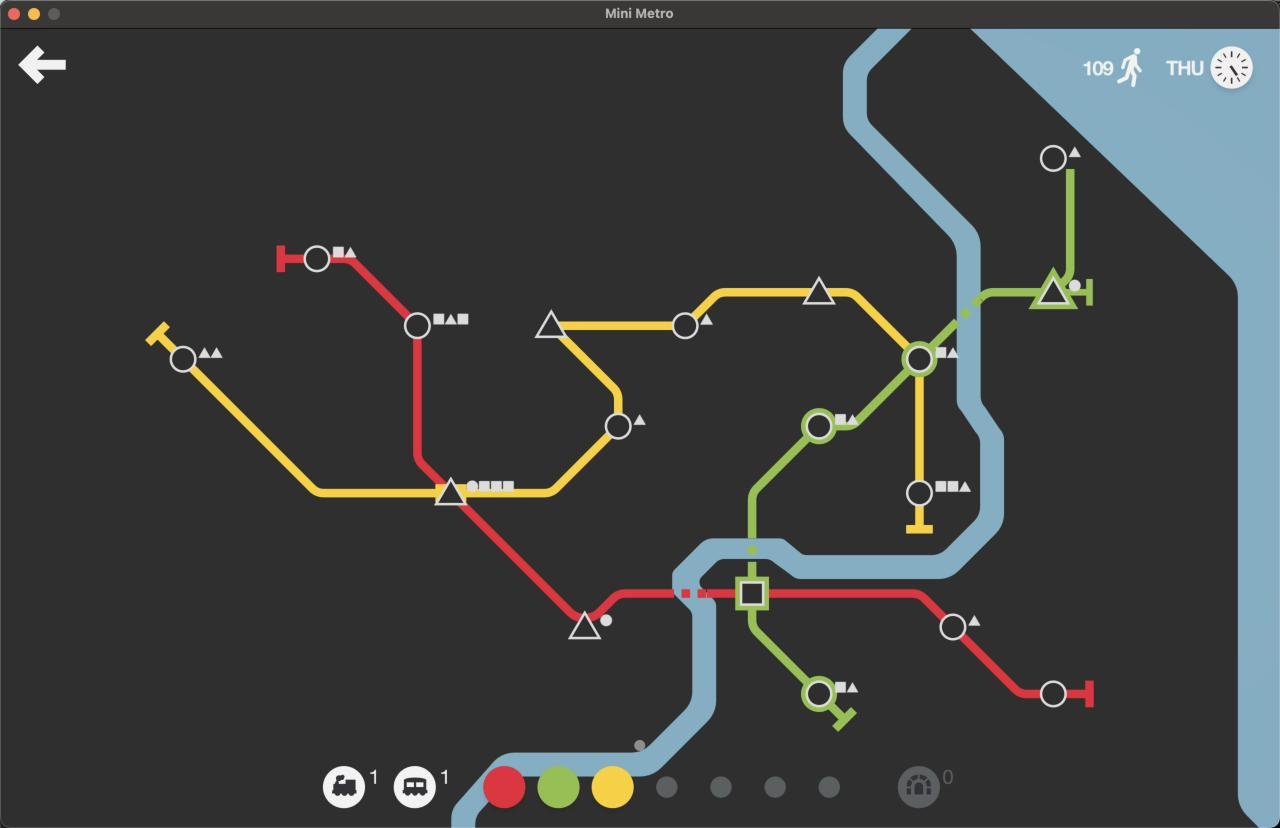CIRCLE: (802, 408, 836, 444), (802, 676, 836, 712), (901, 341, 935, 376), (905, 478, 934, 508), (1039, 679, 1067, 709), (1040, 144, 1068, 173), (939, 613, 967, 642), (604, 412, 633, 440), (169, 345, 197, 373), (403, 312, 431, 340), (671, 312, 699, 340), (303, 244, 331, 272)
SQUARE: (734, 575, 770, 610)
TRIANGLE: (1031, 269, 1076, 309), (567, 608, 603, 640), (801, 275, 835, 306), (433, 476, 467, 506), (534, 309, 566, 339), (968, 615, 981, 627)
